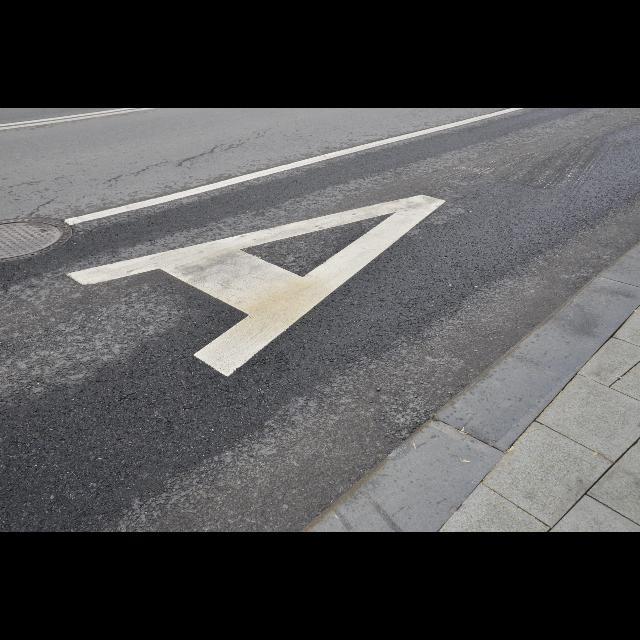road: (0, 108, 640, 532)
